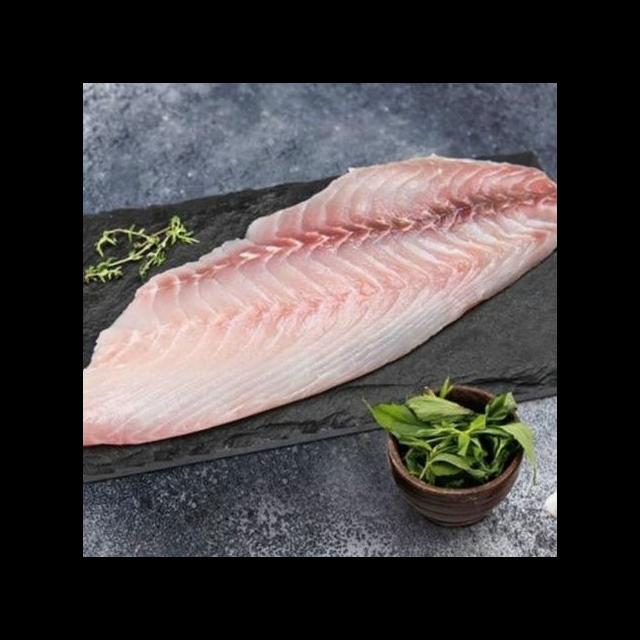fish: (83, 151, 557, 457)
